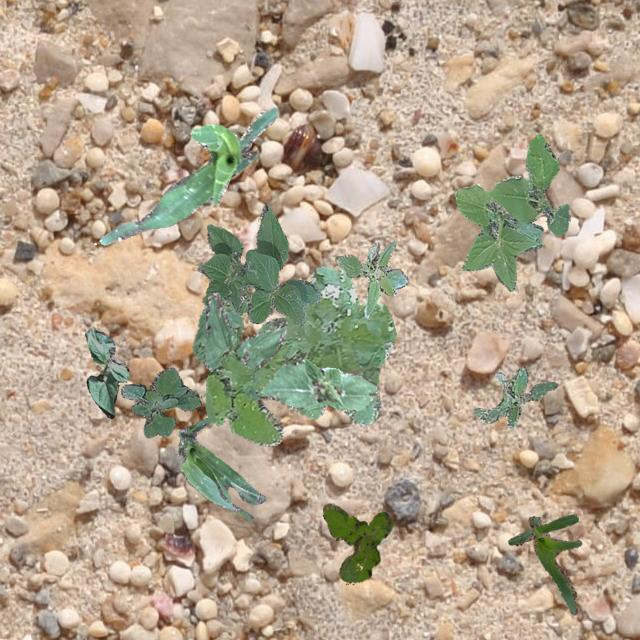crop: (98, 106, 276, 244), (197, 204, 321, 326), (176, 416, 264, 520), (506, 514, 580, 614), (260, 356, 376, 412), (204, 291, 286, 368), (84, 327, 128, 418)
weed: (192, 264, 394, 444), (454, 133, 568, 290), (334, 240, 408, 316), (120, 366, 200, 436), (322, 502, 392, 582), (472, 366, 556, 428), (236, 286, 250, 314)
